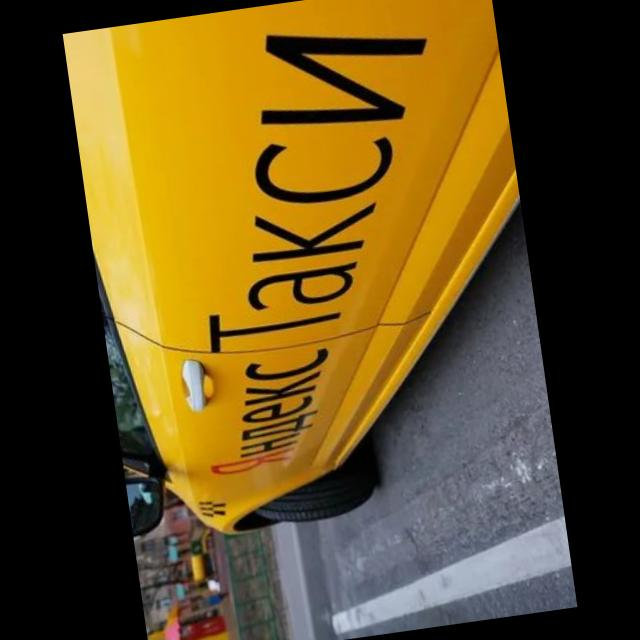taxi: (64, 1, 562, 551)
